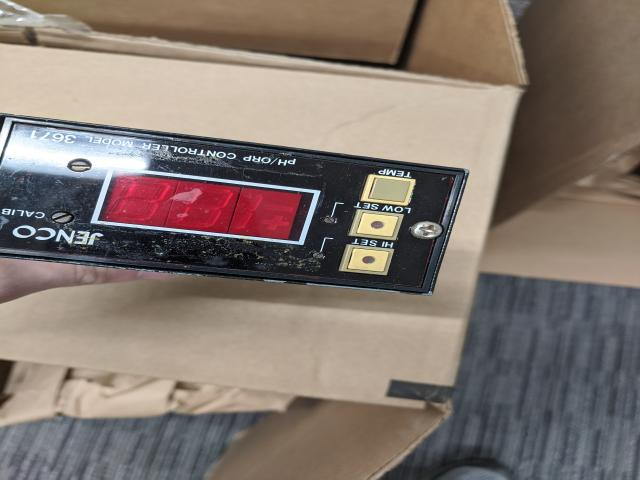CRS: (407, 221, 445, 242)
